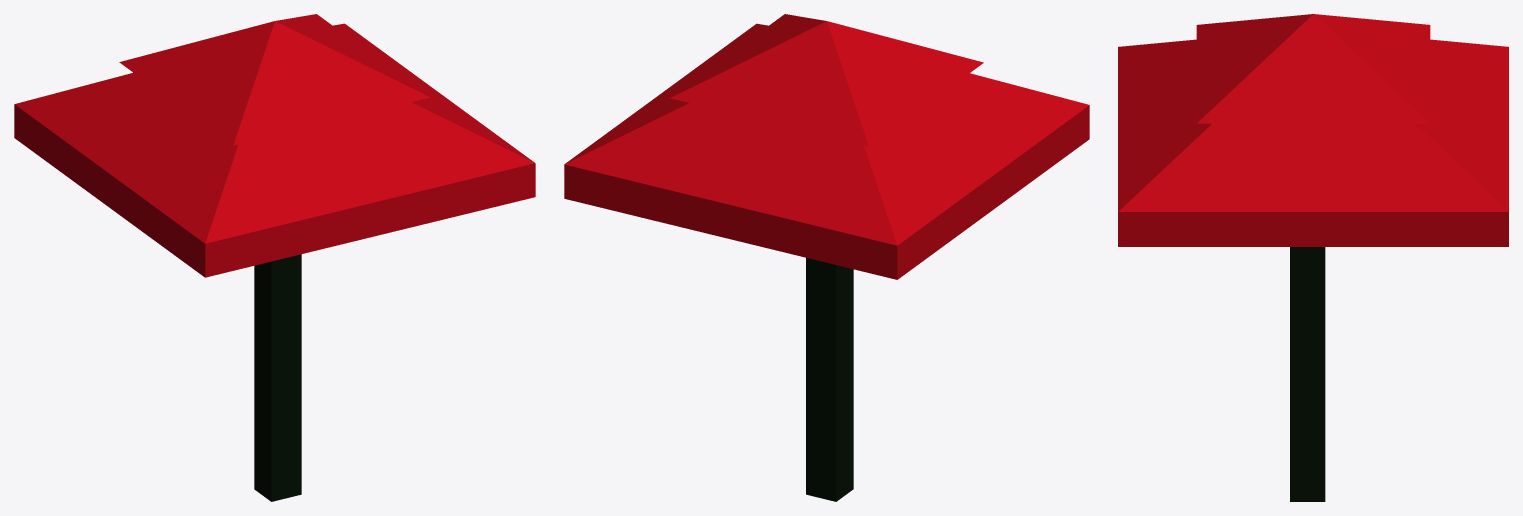
The model's file is Pecurka.fbx.
The picture shows the model from 3 angles, left to right: view 1: azimuth 30°, elevation 25°; view 2: azimuth 150°, elevation 25°; view 3: azimuth 270°, elevation 25°; orthographic projection. The views are drawn at different scales.
Visible parts, largest first — view 1: Cube.052, Cube.051, Cube.050; view 2: Cube.052, Cube.051, Cube.050; view 3: Cube.052, Cube.051, Cube.050.
Boxes of the visible parts, x1=… form: Cube.052: x1=14, y1=23, x2=535, y2=277; Cube.051: x1=119, y1=14, x2=430, y2=145; Cube.050: x1=254, y1=254, x2=301, y2=501; Cube.052: x1=564, y1=23, x2=1089, y2=279; Cube.051: x1=670, y1=14, x2=983, y2=146; Cube.050: x1=806, y1=258, x2=853, y2=501; Cube.052: x1=1118, y1=39, x2=1508, y2=246; Cube.051: x1=1196, y1=14, x2=1430, y2=123; Cube.050: x1=1290, y1=247, x2=1325, y2=501.
Bounding box in the file's own units: 264 × 358 × 264.
